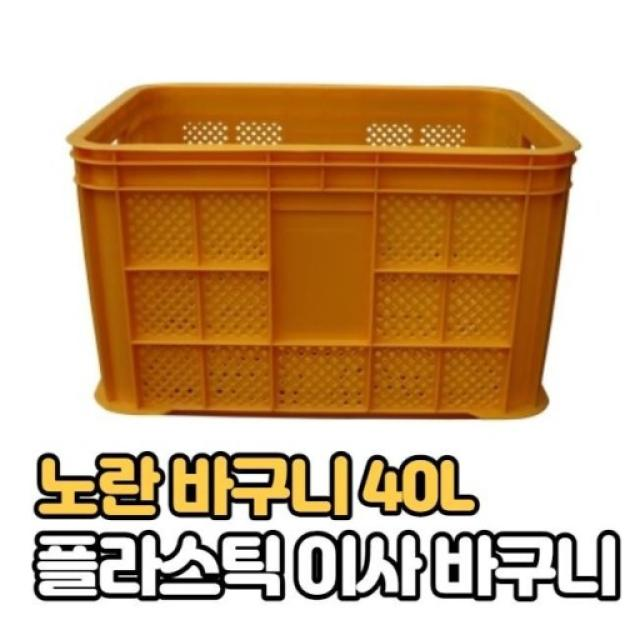basket: (67, 84, 580, 419)
